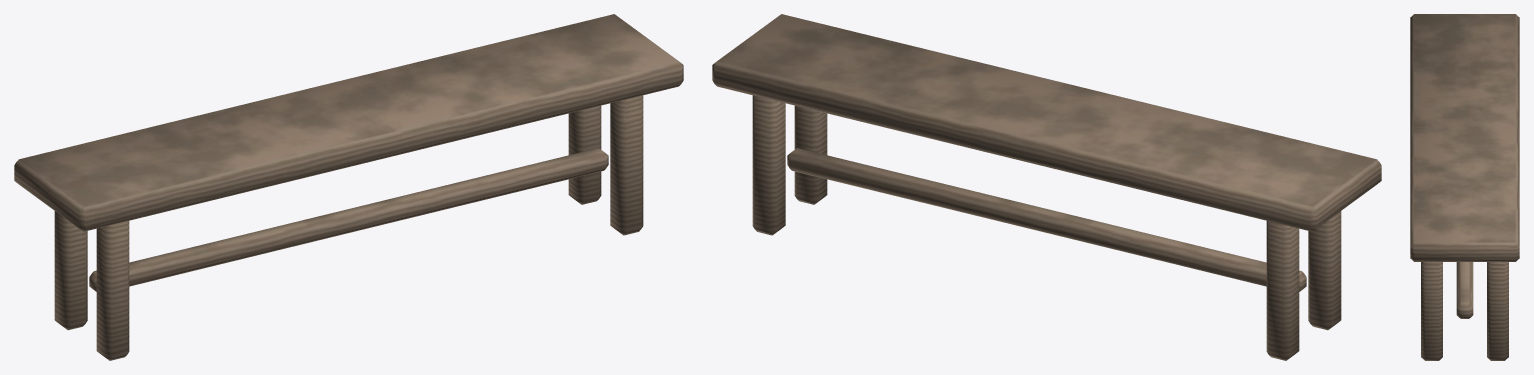
File: bench.glb
3 views of the same model, side by side, from view 1: azimuth 30°, elevation 25°; view 2: azimuth 150°, elevation 25°; view 3: azimuth 270°, elevation 25° (orthographic). The views are drawn at different scales.
Visible parts, largest first — view 1: bench; view 2: bench; view 3: bench.
Part boxes in pixels (x1,y1,x2,y2): bench: (14, 14, 683, 360); bench: (712, 14, 1381, 360); bench: (1410, 14, 1519, 360).
Size of the model in its own units: 2 by 0.53 by 0.4.
Materials: 1 (1 with a texture image).
